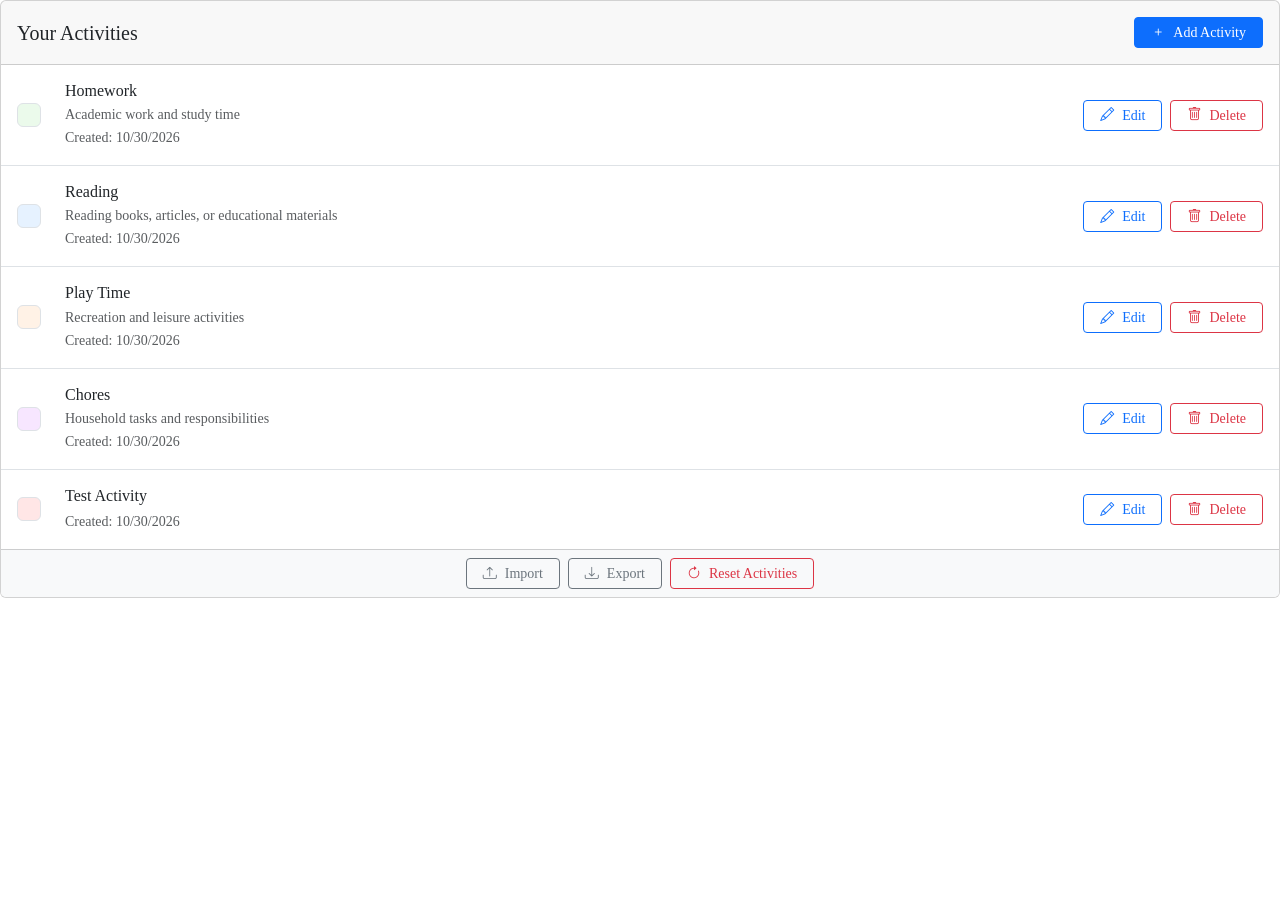
Test: ActivityCrud › edits an activity
The width and height of the screenshot is (1280, 900).
Click the button "Edit" in the row of "Academic work and study time" at coordinates (1123, 115), box [1083,100,1162,131]
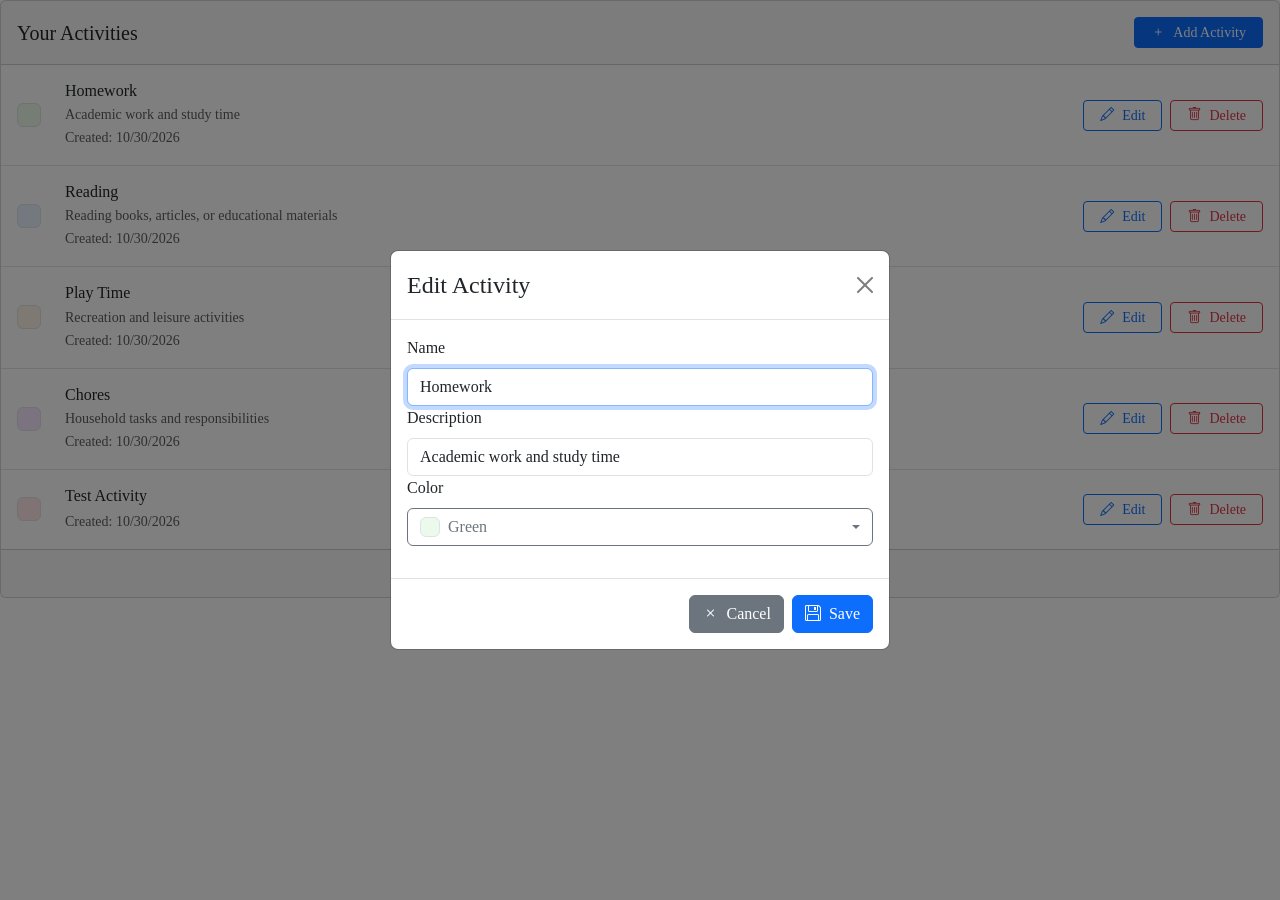
Replace the text in the field labelled "Name" with "Edited Activity" at coordinates (640, 387), box [407,368,873,406]
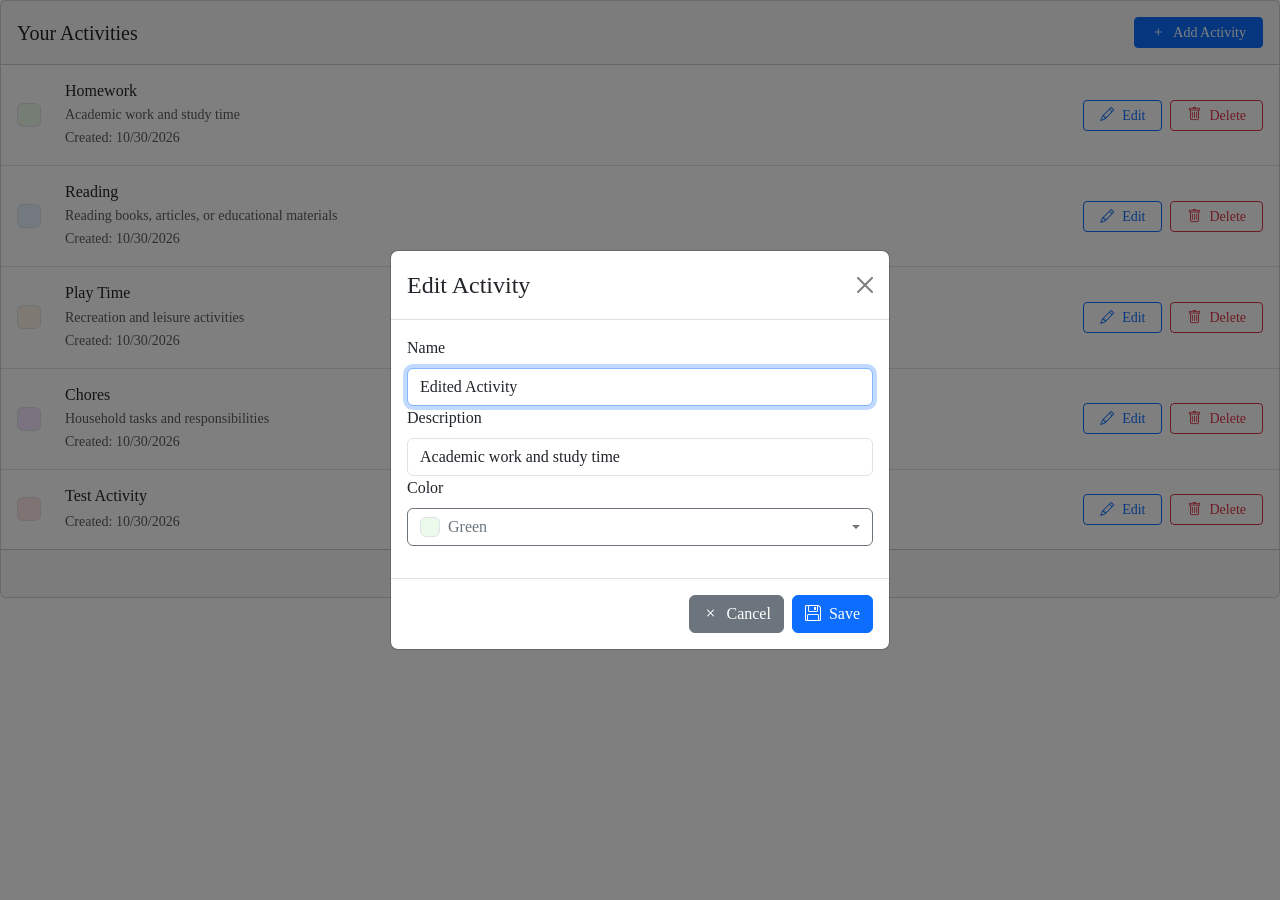
Click the button "Save" at coordinates (832, 614), box [792,595,873,633]
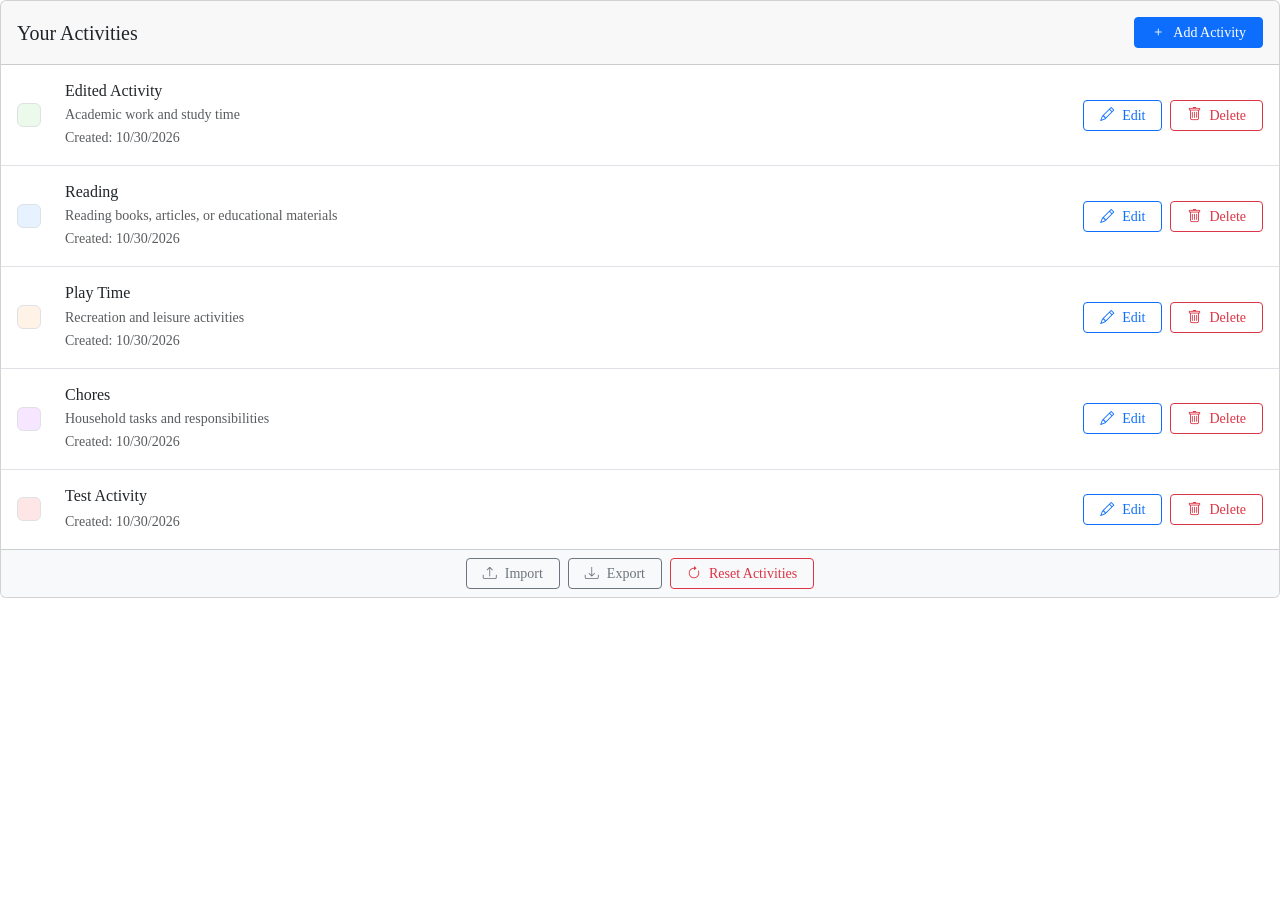
Now the heading "Edited Activity" is shown, box [65,82,162,99]
